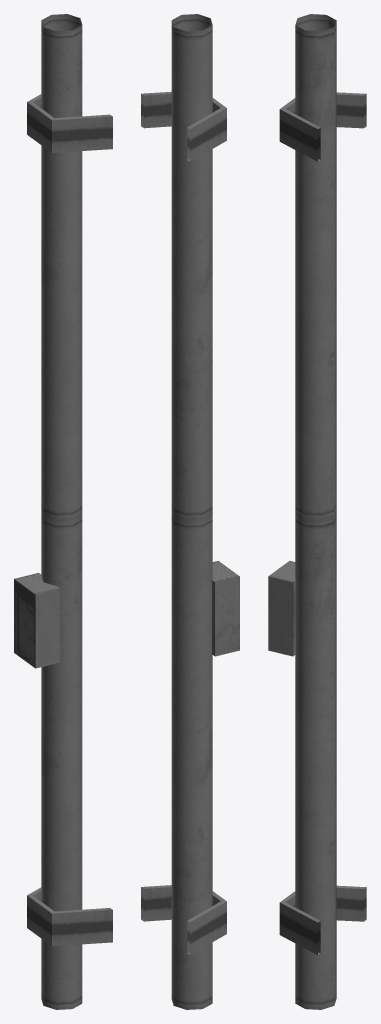
Rendered from CP_Pipe_C_4m_03.fbx.
The picture shows the model from 3 angles, left to right: view 1: azimuth 30°, elevation 25°; view 2: azimuth 210°, elevation 25°; view 3: azimuth 330°, elevation 25°; orthographic projection.
Parts seen in each view (by area): view 1: CP_Pipe_C_4m_03; view 2: CP_Pipe_C_4m_03; view 3: CP_Pipe_C_4m_03.
Part boxes in pixels (x1=…): CP_Pipe_C_4m_03: x1=14, y1=14, x2=112, y2=1009; CP_Pipe_C_4m_03: x1=141, y1=14, x2=239, y2=1009; CP_Pipe_C_4m_03: x1=268, y1=14, x2=366, y2=1009.
Size of the model in its own units: 27.2 by 400 by 36.06.
